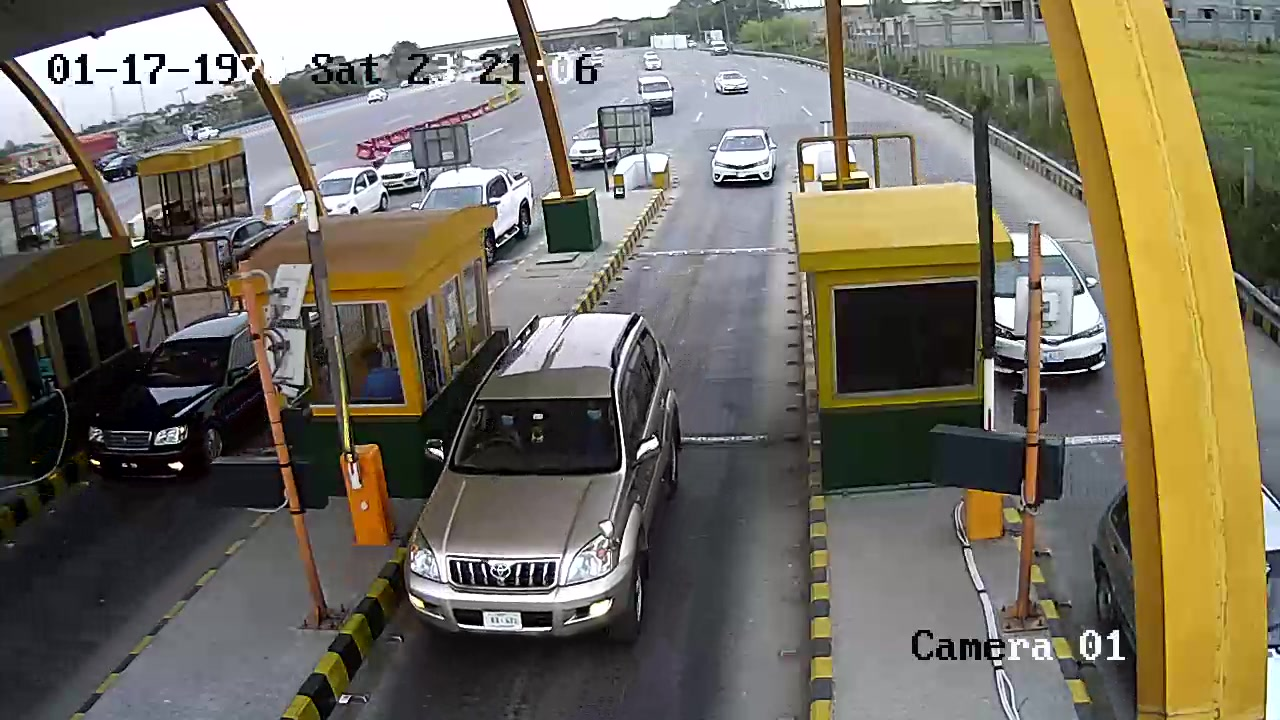F1: (412, 311, 692, 658)
